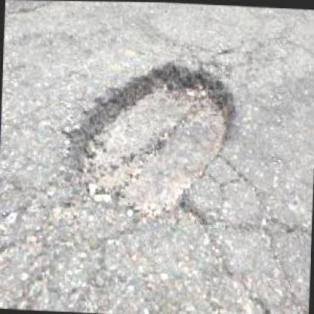Hueco: (62, 54, 238, 224)
